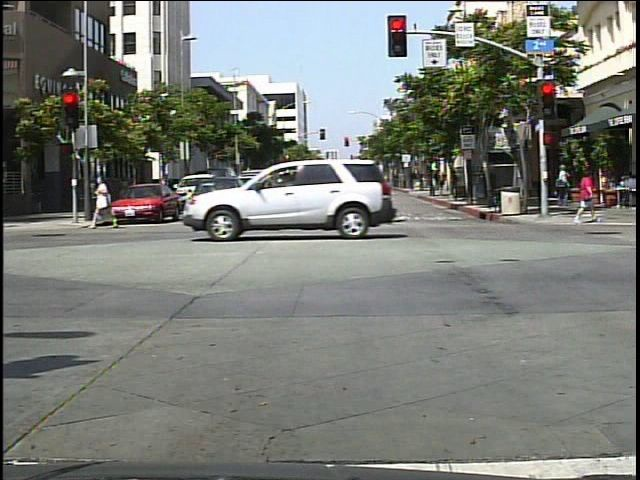person: (569, 169, 603, 231), (90, 172, 121, 236), (553, 160, 572, 210)
